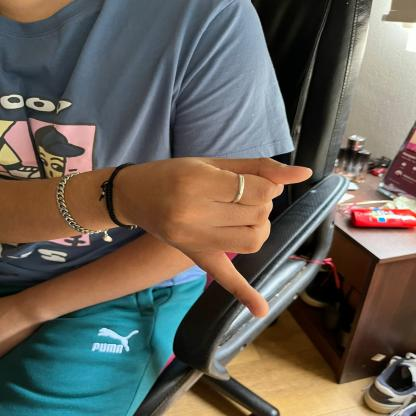Z: (130, 146, 315, 319)
